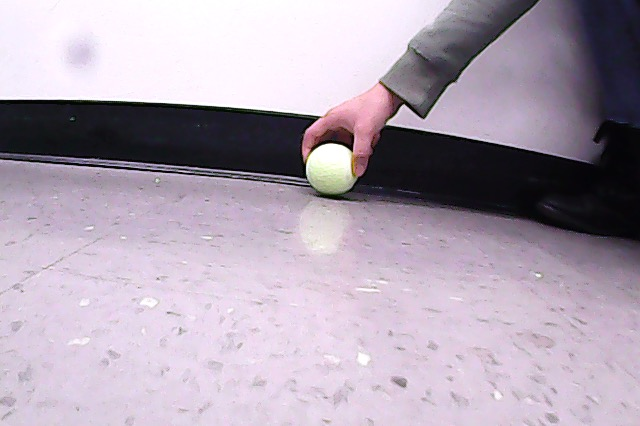ball: (306, 144, 360, 195)
